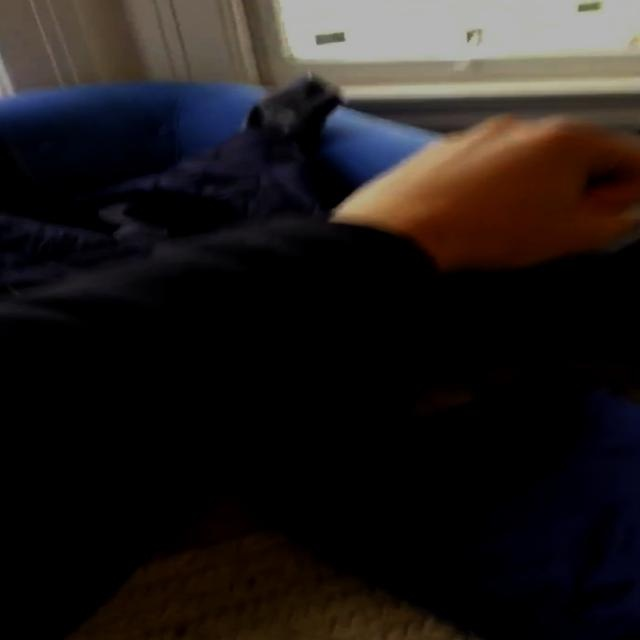Rock: (369, 111, 640, 273)
